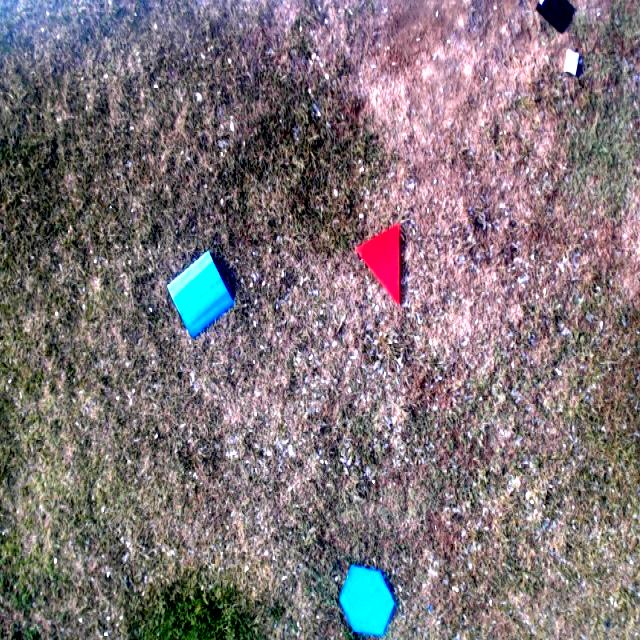blue_hexagon: (340, 565, 394, 636)
blue_square: (169, 249, 234, 337)
red_triangle: (358, 224, 402, 304)
